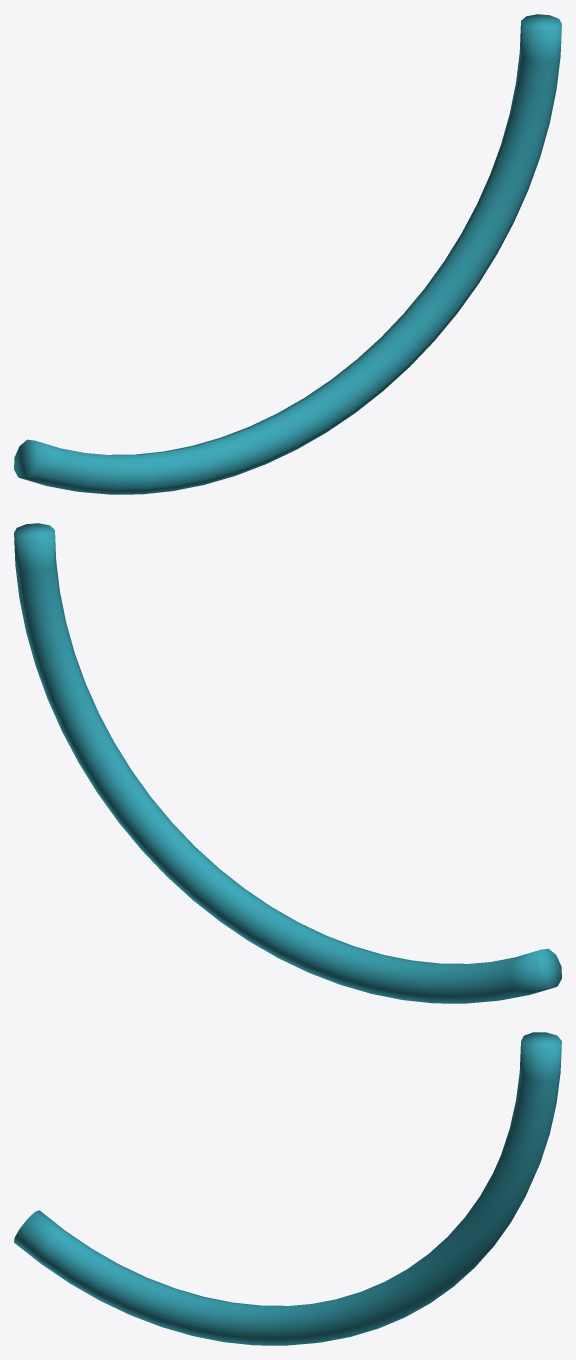
Rendered from SM_Puzzle_PerspectiveArc_03.fbx.
3 views of the same model, one above another, from view 1: azimuth 30°, elevation 25°; view 2: azimuth 150°, elevation 25°; view 3: azimuth 330°, elevation 25° (orthographic).
Visible parts, largest first — view 1: Arc_fragment.002; view 2: Arc_fragment.002; view 3: Arc_fragment.002.
Part boxes in pixels (x1,y1,x2,y2): Arc_fragment.002: (14, 14, 561, 494); Arc_fragment.002: (14, 523, 561, 1003); Arc_fragment.002: (14, 1032, 561, 1345).
Size of the model in its own units: 78.8 by 4.95 by 52.71.
